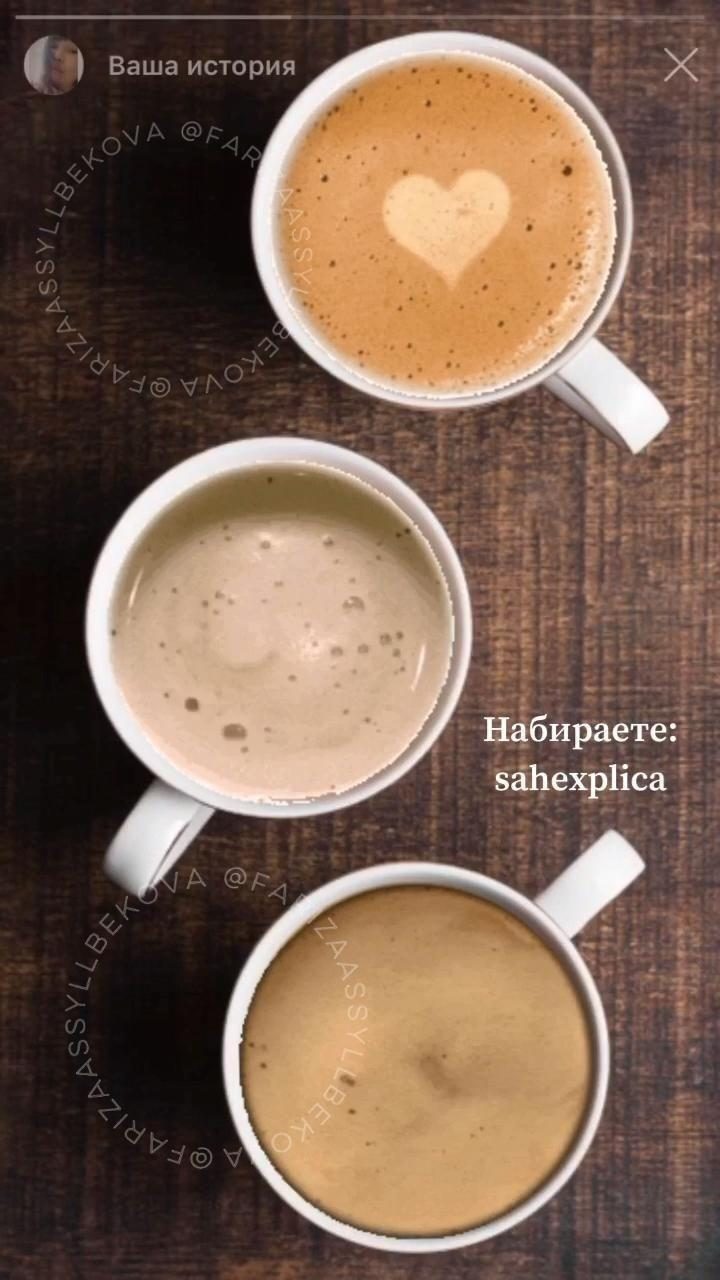cup-handle: (215, 823, 647, 1262), (244, 22, 672, 461), (82, 432, 476, 898)
